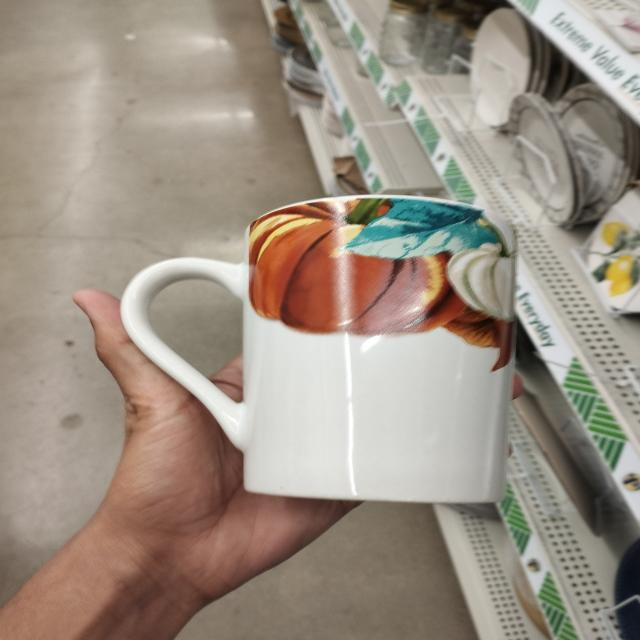Cup: (111, 181, 571, 523)
